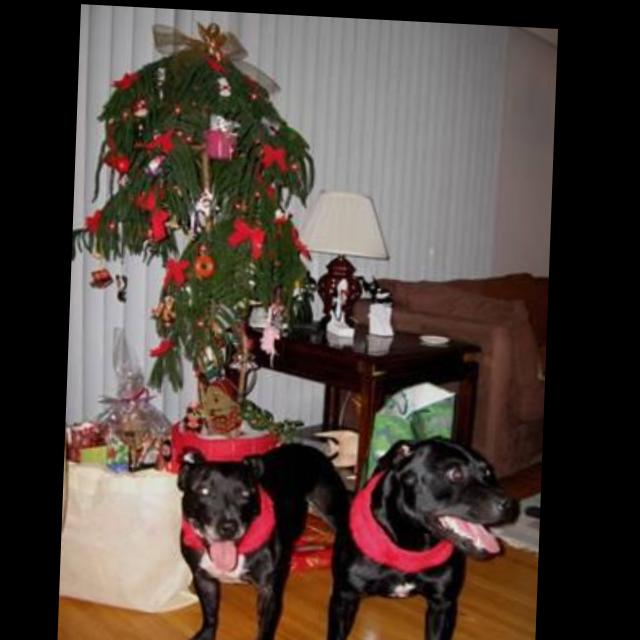staffford: (320, 425, 530, 640), (177, 431, 360, 640)
